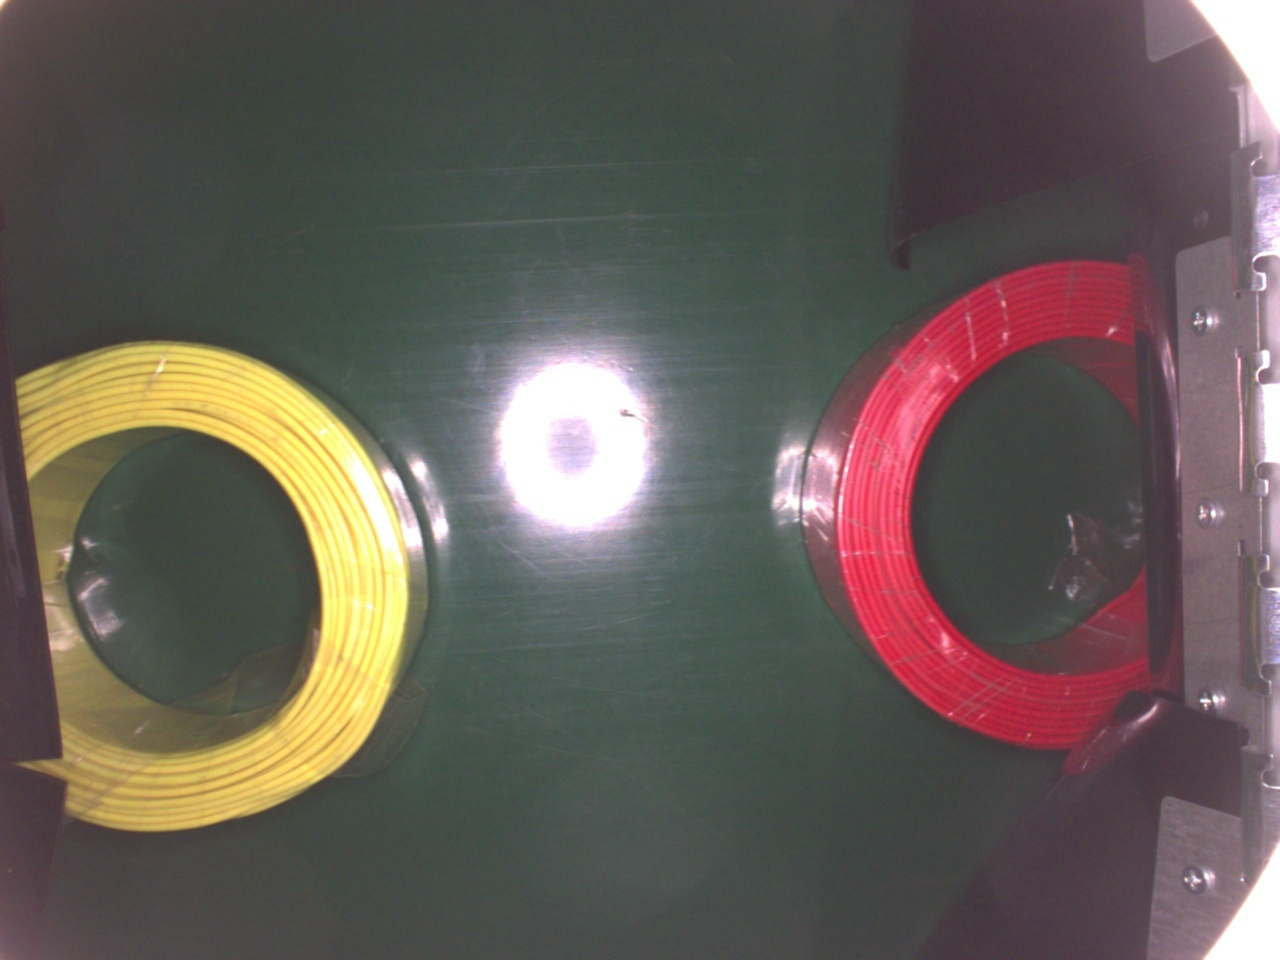red: (797, 257, 1154, 752)
yellow: (17, 341, 436, 835)
